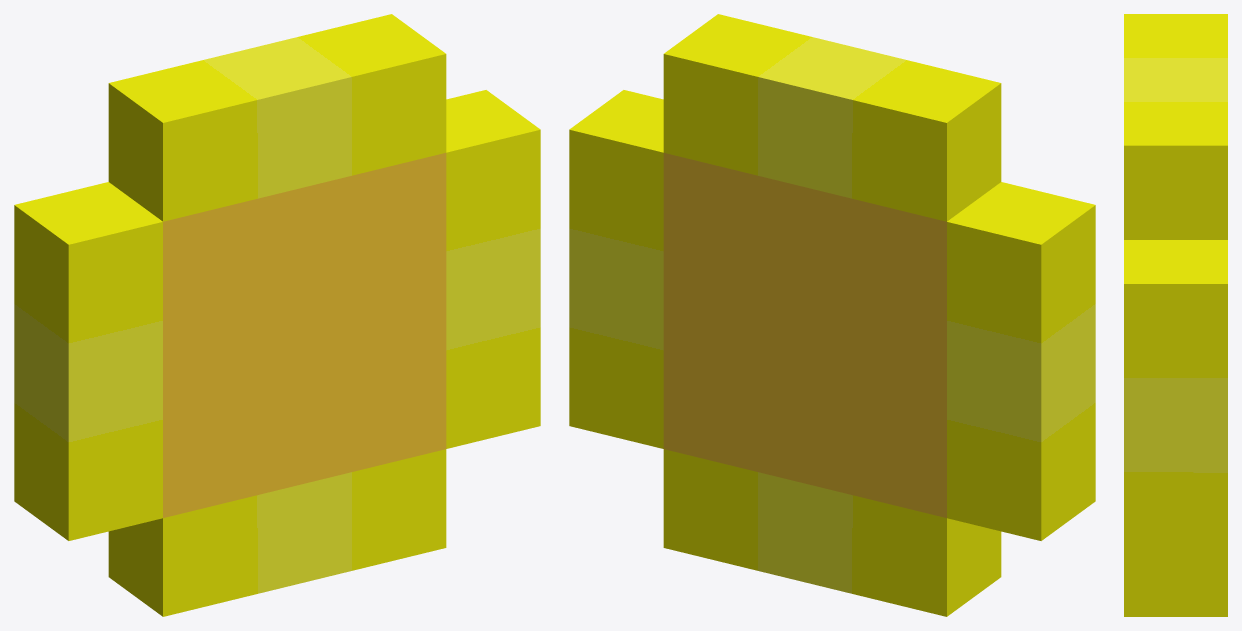
File: obj_gold.dae
3 views of the same model, side by side, from view 1: azimuth 30°, elevation 25°; view 2: azimuth 150°, elevation 25°; view 3: azimuth 270°, elevation 25° (orthographic). The views are drawn at different scales.
Parts seen in each view (by area): view 1: obj_gold; view 2: obj_gold; view 3: obj_gold.
Boxes of the visible parts, left/top/right/bottom form: obj_gold: left=14, top=14, right=540, bottom=616; obj_gold: left=569, top=14, right=1095, bottom=616; obj_gold: left=1124, top=14, right=1227, bottom=616.
Size of the model in its own units: 0.5 by 0.1 by 0.5.
